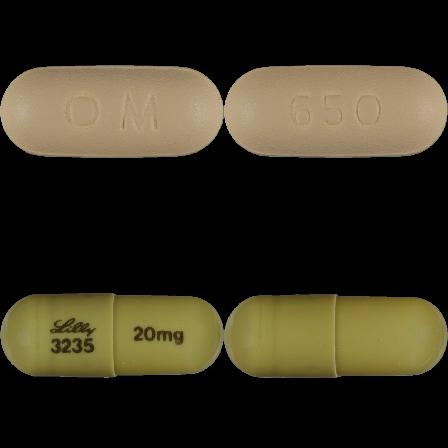21695-143: (0, 0, 224, 224)
